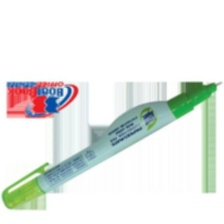correction_fluid: (1, 78, 223, 210)
